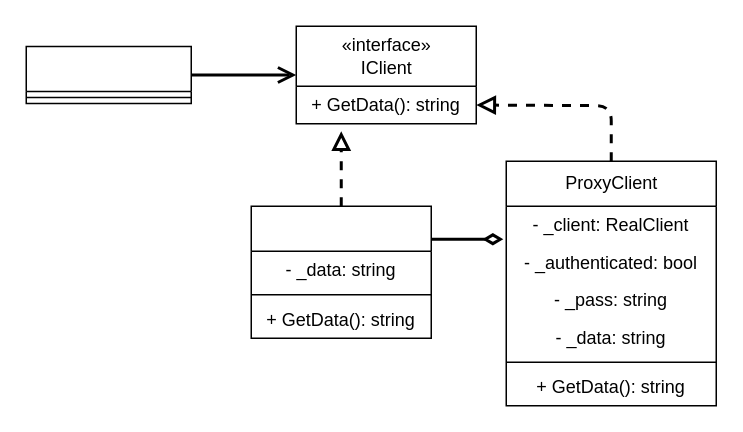
This 743x432 diagram has some shape labels left out. The box of each missing label's shape, as (x1, y1, x2, y2) in pixels:
Program: (25, 45, 191, 104)
RealClient: (250, 205, 431, 338)
